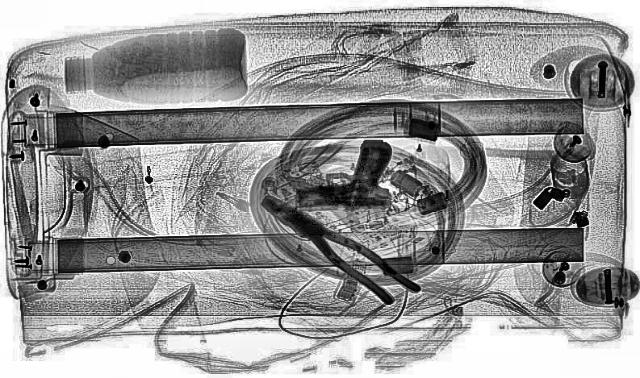Gun: (288, 138, 392, 209)
Pliers: (239, 189, 426, 304)
